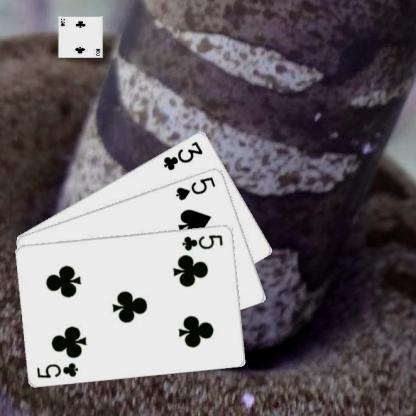3C: (160, 138, 204, 172)
5C: (180, 231, 224, 252), (35, 360, 80, 380)
5S: (173, 174, 217, 201)
